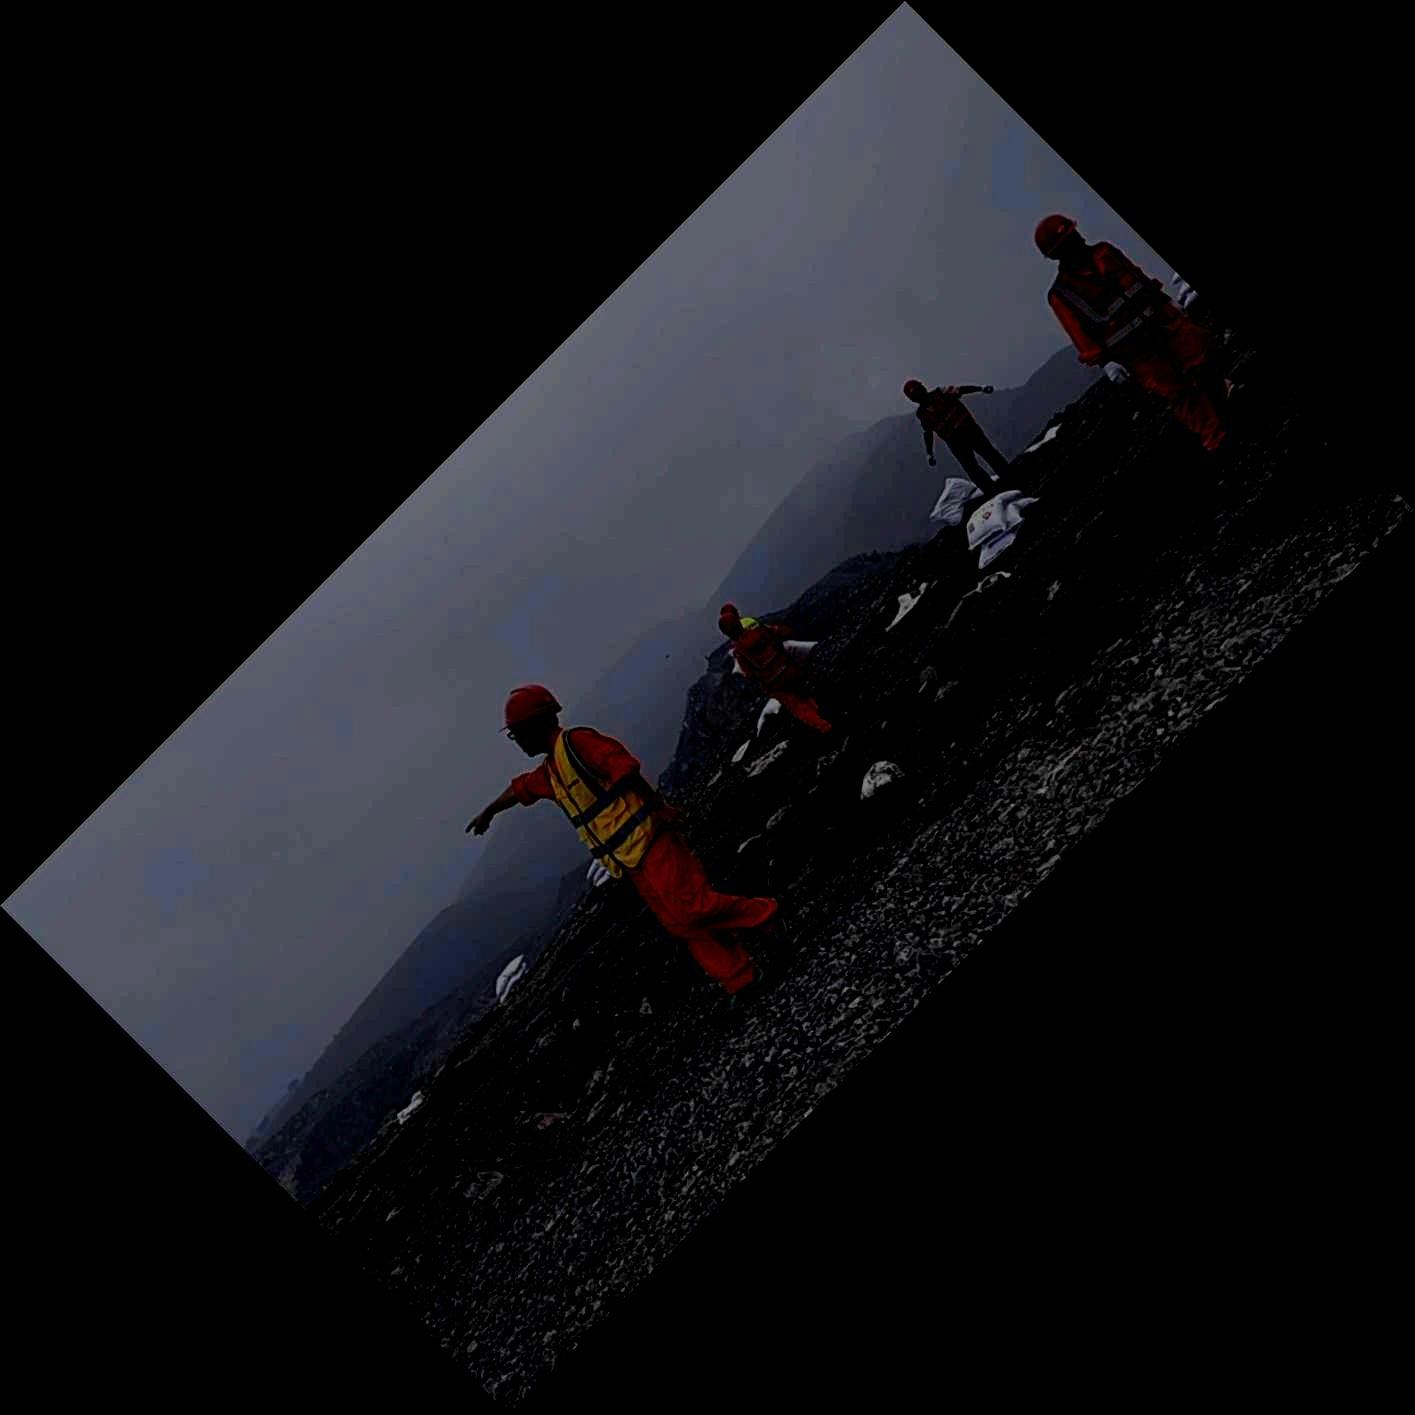helmet: (498, 682, 562, 758), (1033, 213, 1087, 263), (902, 378, 929, 406), (718, 613, 744, 639), (720, 603, 739, 617)
